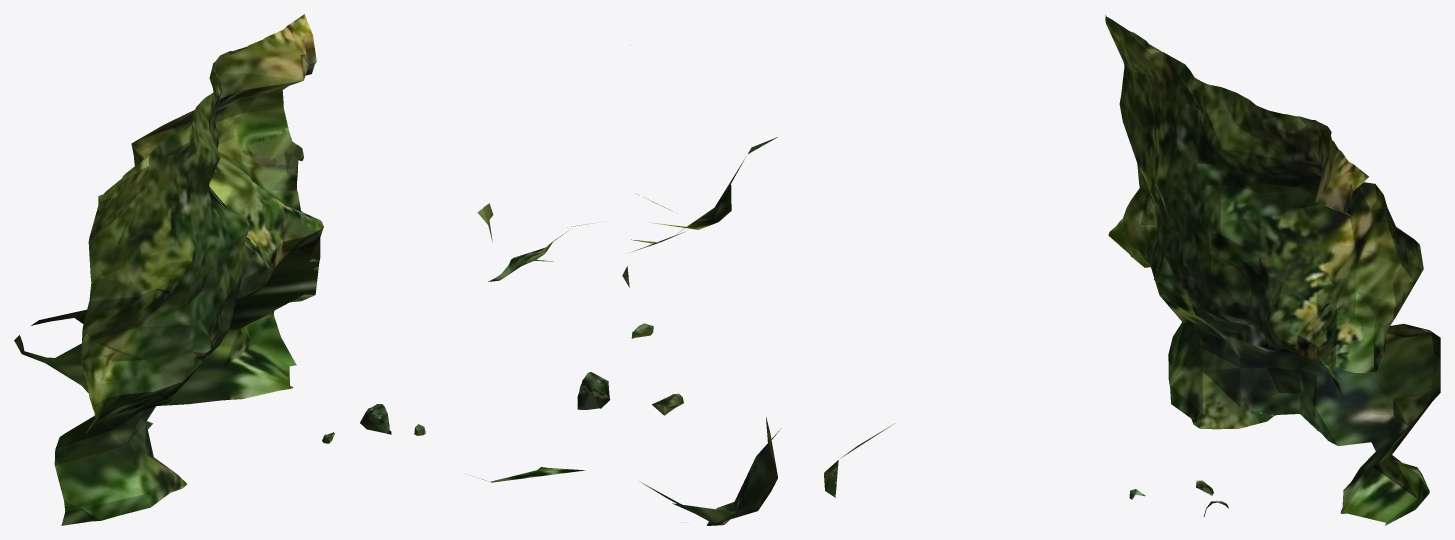
The picture shows the model from 3 angles, left to right: view 1: azimuth 30°, elevation 25°; view 2: azimuth 150°, elevation 25°; view 3: azimuth 270°, elevation 25°; orthographic projection. The views are drawn at different scales.
Bounding box in the file's own units: 1.67 × 1.67 × 1.46.
4 materials, 4 textured.
